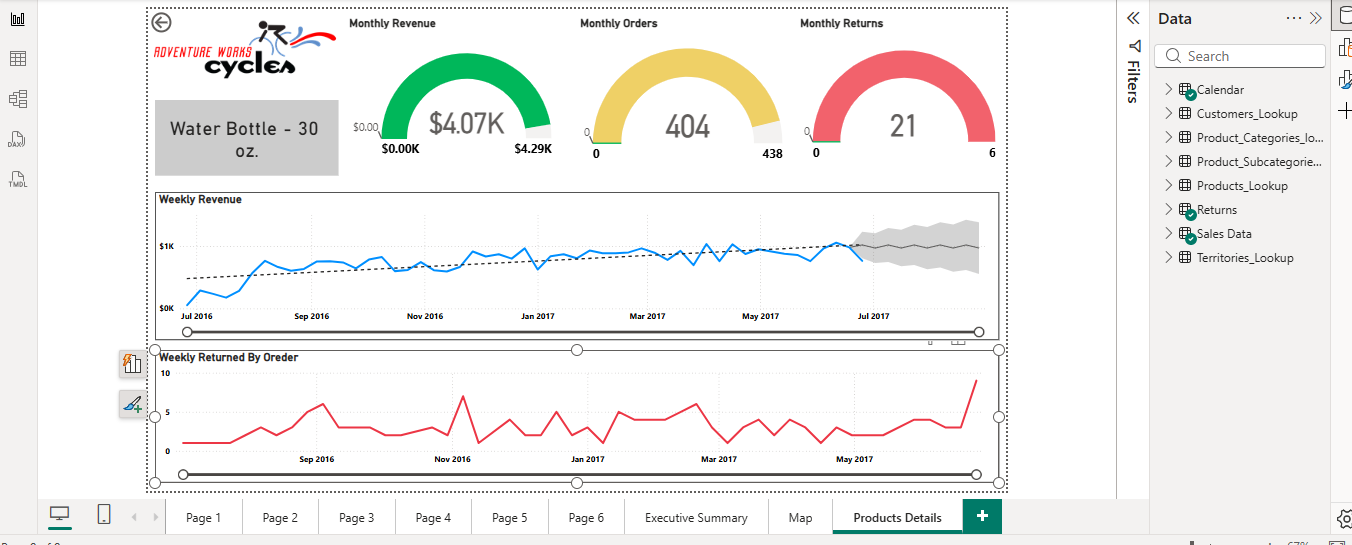

This screenshot's page, from the dashboard's own definition file:
{"tool":"powerbi","page":{"name":"Products Details","canvas":[1280,720],"ordinal":8},"visuals":[{"type":"lineChart","title":"Weekly Returned By Oreder","fields":{"Y":["Returns.Total Returned"],"Category":["Calendar.Start of Week"]},"box":[10.2,509.3,1260,197.6],"z":0},{"type":"lineChart","title":"Weekly Revenue","fields":{"Category":["Calendar.Start of Week"],"Y":["Sales Data.Total Revanue"]},"box":[10.2,273.7,1260,221],"z":1000},{"type":"gauge","title":"Monthly Returns","fields":{"Y":["Returns.Total Returned"],"MaxValue":["Returns.Prev Month REturned"]},"box":[968.8,10.2,301.5,253.2],"z":2000},{"type":"gauge","title":"Monthly Revenue ","fields":{"Y":["Sales Data.Total Revanue"],"MaxValue":["Sales Data.Revenue Target"]},"box":[296.1,11,311.8,252.2],"z":3000},{"type":"gauge","title":"Monthly Orders","fields":{"Y":["Sales Data.Total Order"],"MaxValue":["Sales Data.Order Target"]},"box":[640.8,11,311.8,252.2],"z":4000},{"type":"image","box":[9.4,11,274.8,100.5],"z":5000},{"type":"card","fields":{"Values":["Min(Products_Lookup.ProductName)"]},"box":[9.4,136.6,274.8,111.5],"z":6000}]}

Visuals, with their boxes on the page's 1280x720 design canvas (x1, y1, x2, y2). These are canvas units, not pixel positions in the 1352x545 screenshot, which may show the page scaled, cropped or inside an application window:
"Weekly Returned By Oreder" lineChart: rect(10, 509, 1270, 707)
"Weekly Revenue" lineChart: rect(10, 274, 1270, 495)
"Monthly Returns" gauge: rect(969, 10, 1270, 263)
"Monthly Revenue " gauge: rect(296, 11, 608, 263)
"Monthly Orders" gauge: rect(641, 11, 953, 263)
image: rect(9, 11, 284, 112)
card - Min(Products_Lookup.ProductName): rect(9, 137, 284, 248)
